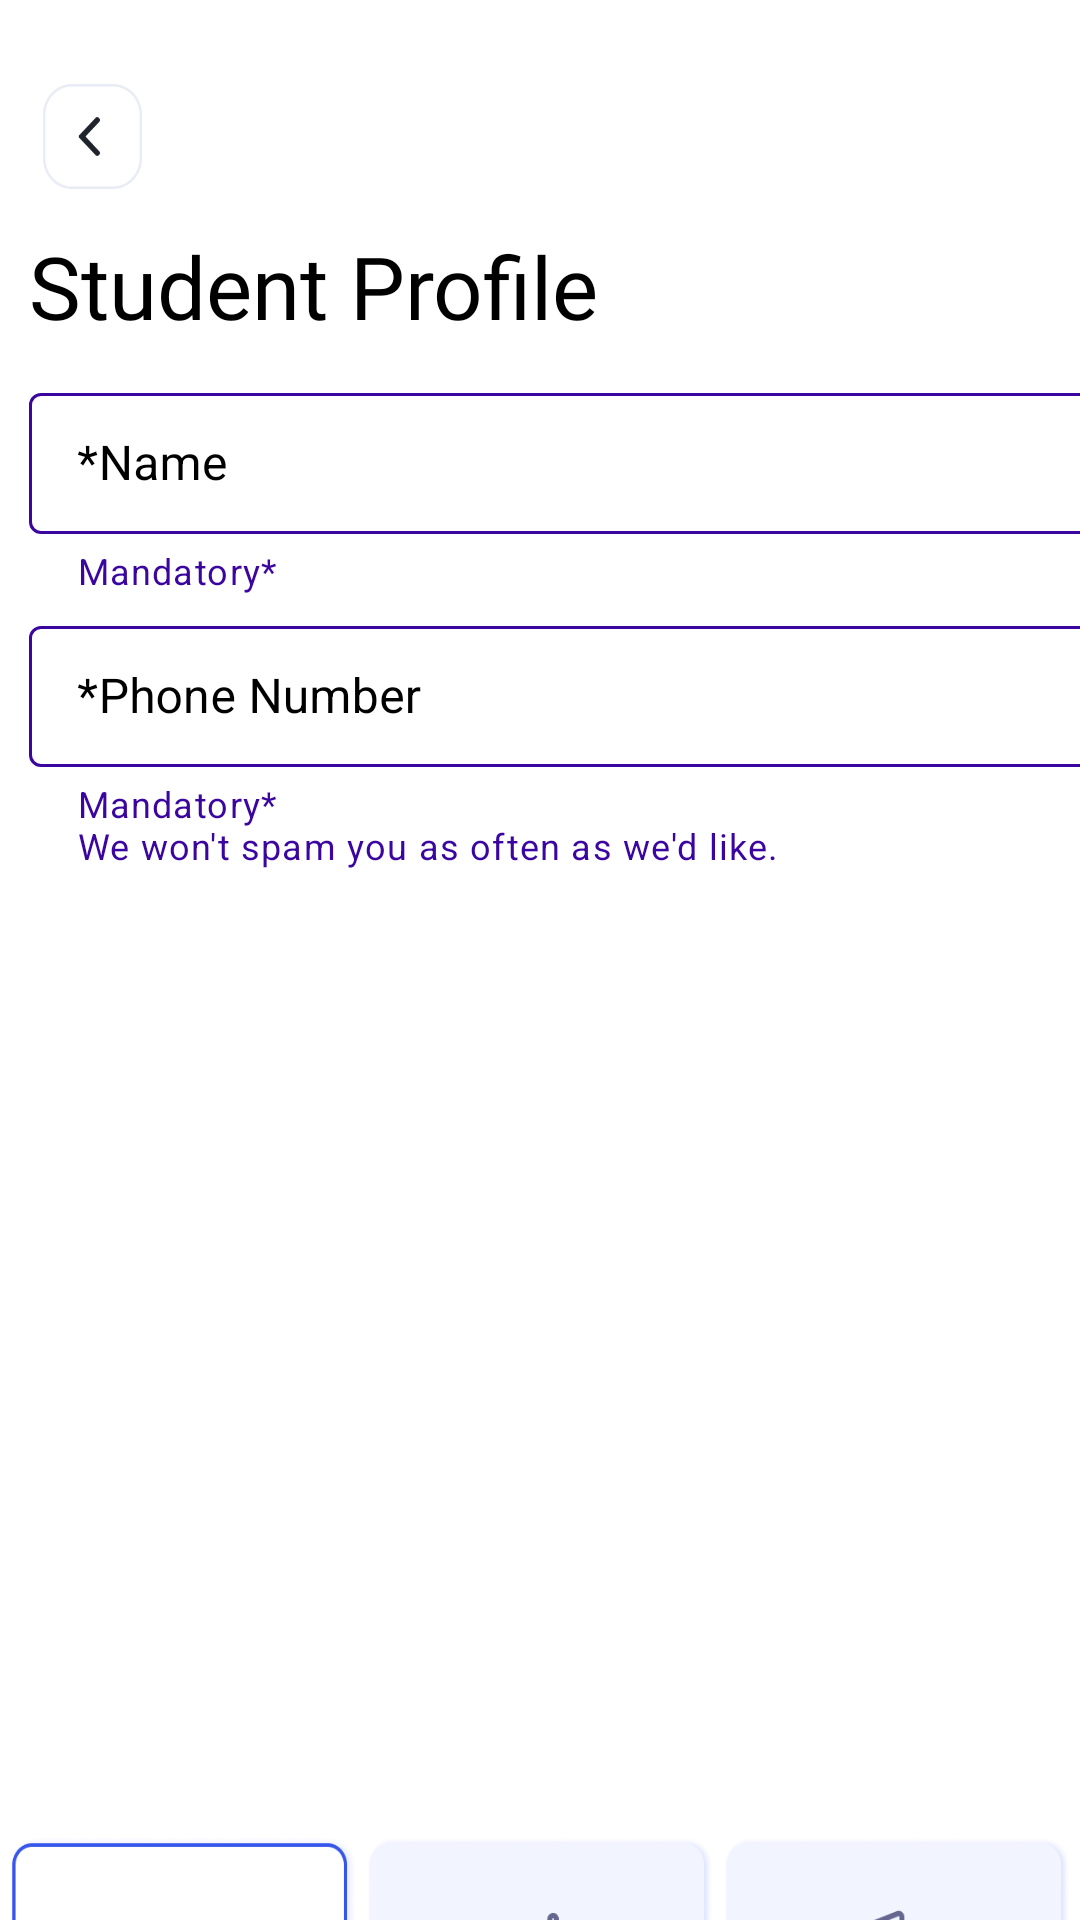

Where to tap for icons on this 1080x1920 app screen, as point (x, y):
back: point (89, 136)
